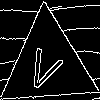V: (23, 39, 68, 95)
